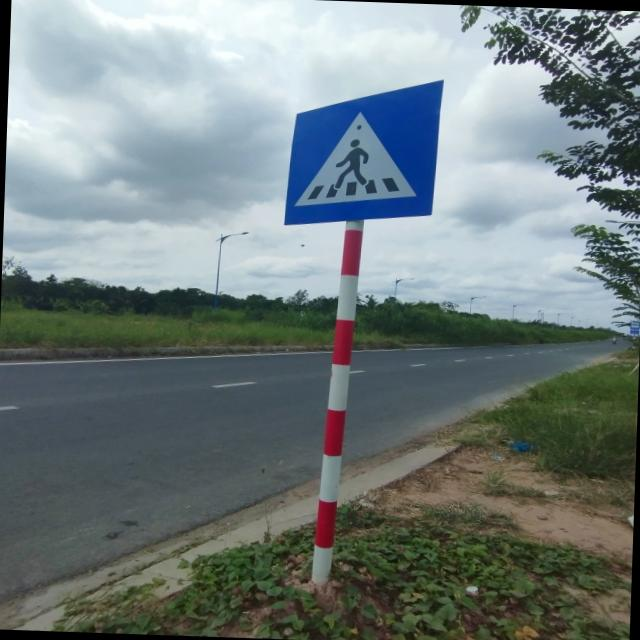Giao_Nhau_Duong_Uu_Tien: (284, 75, 443, 231)
